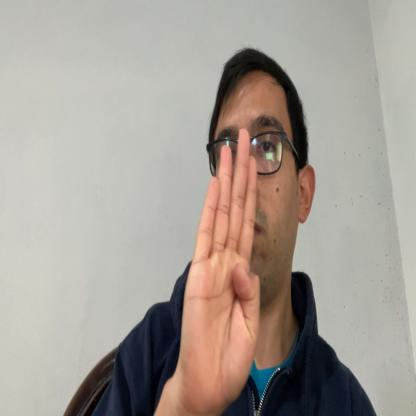B: (181, 127, 261, 410)
